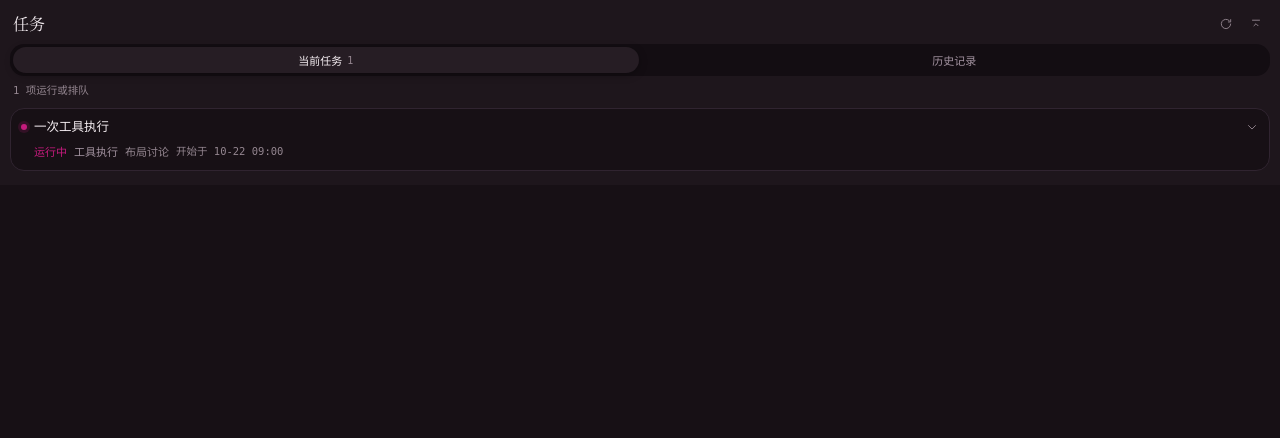
动作与审批入口 › 截断的输出标明「仅显示部分」并提供查看更多
Click the button with class "task-trigger" at (72, 126), box [34,118,1259,137]
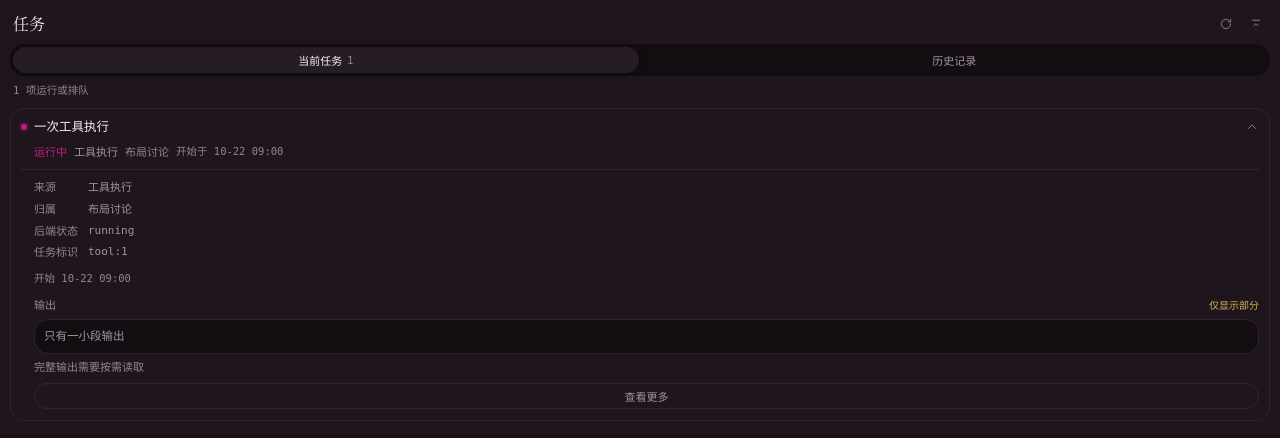
Expected: the text "仅显示部分" is shown, [1209,297,1259,314]
Expected: the text "查看更多" is shown, [34,383,1259,409]
